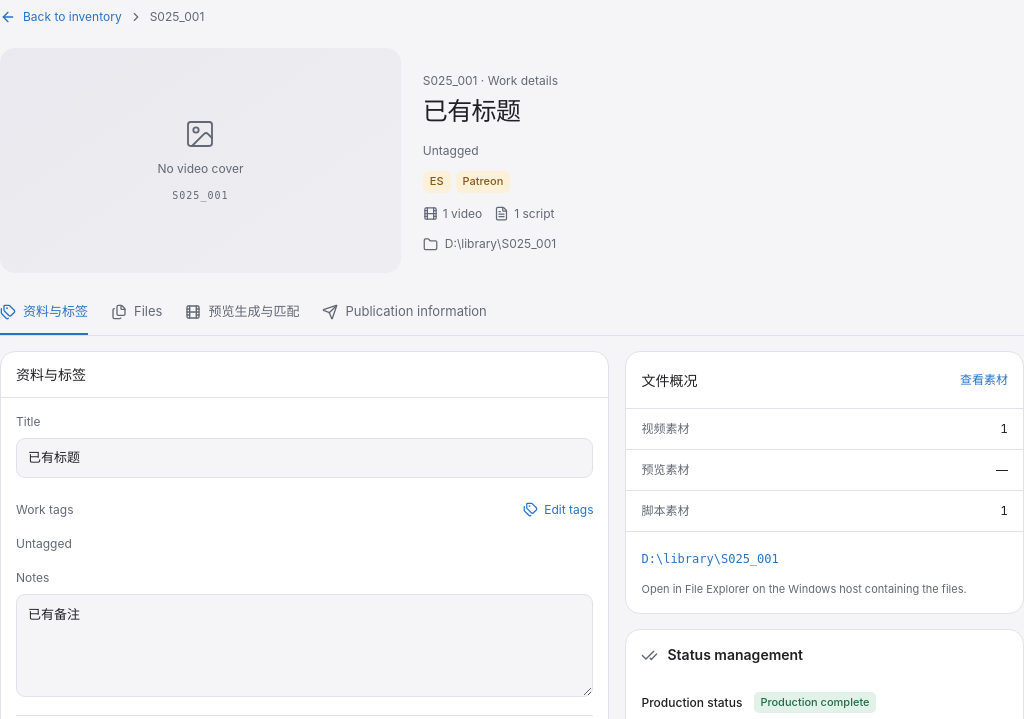
translates page navigation and its unsaved confirmation into English without translating user data
Check: the button "Back to inventory" is shown, box [0, 0, 122, 34]
Replace the text in the field labelled "Title" with "用户标题": (305, 458) [16, 438, 594, 478]
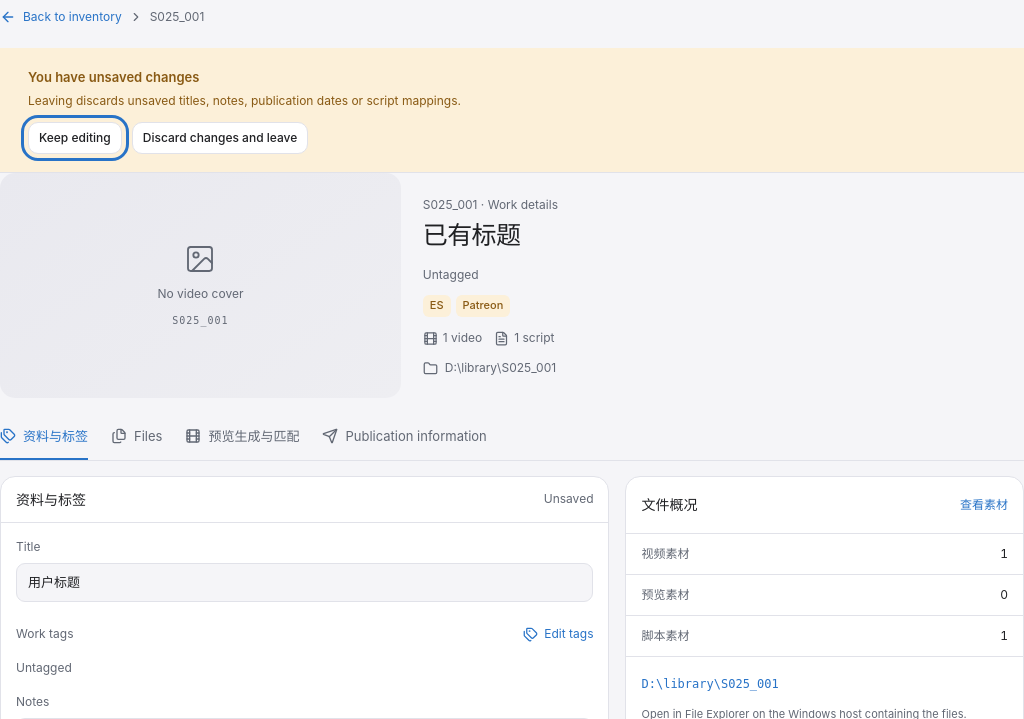
Check: the button "Discard changes and leave" is shown, box [132, 122, 308, 154]
Check: the text "Leaving discards unsaved titles, notes, publication dates or script mappings." is shown, box [28, 92, 461, 108]
